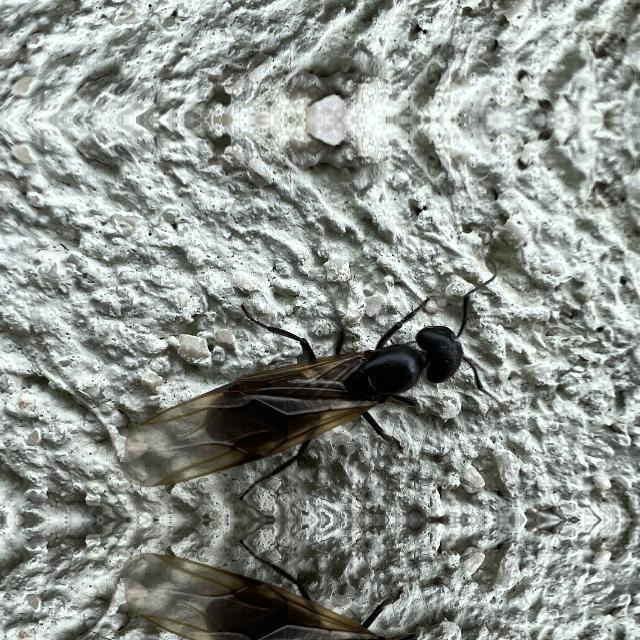Camponotus: (118, 271, 528, 511), (118, 526, 528, 640)
